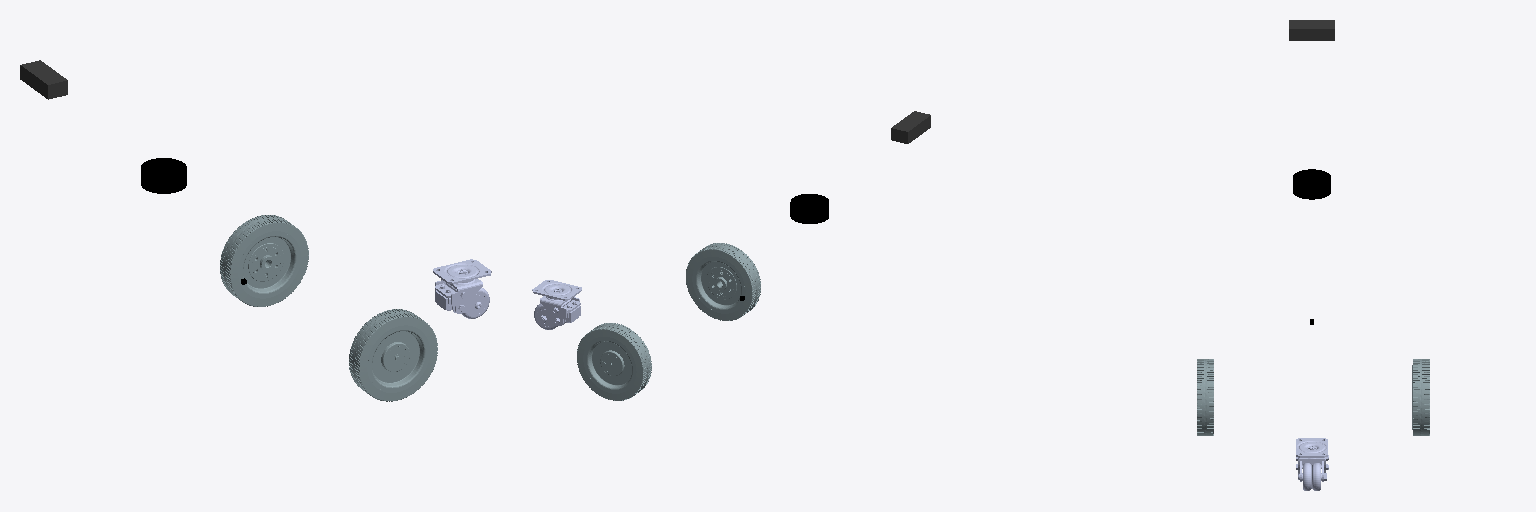
The robot description file, URDF, robot "ros_f":
<?xml version="1.0" encoding="utf-8"?>
<!-- This URDF was automatically created by SolidWorks to URDF Exporter! Originally created by Stephen Brawner (brawner@gmail.com) 
     Commit Version: 1.6.0-4-g7f85cfe  Build Version: 1.6.7995.38578
     For more information, please see http://wiki.ros.org/sw_urdf_exporter -->
<robot
  name="ros_f">
  <link
    name="base_link">
    <inertial>
      <origin
        xyz="0.80547 0.29964 -0.47356"
        rpy="0 0 0" />
      <mass
        value="13.533" />
      <inertia
        ixx="0.22773"
        ixy="-0.0049825"
        ixz="5.9491E-05"
        iyy="0.3509"
        iyz="5.9312E-05"
        izz="0.14899" />
    </inertial>
    <visual>
      <origin
        xyz="0 0 0"
        rpy="0 0 0" />
      <geometry>
        <mesh
          filename="package://robot_fablab/meshes/base_link.STL" />
      </geometry>
      <material
        name="">
        <color
          rgba="0.74902 0.74902 0.74902 1" />
      </material>
    </visual>
    <collision>
      <origin
        xyz="0 0 0"
        rpy="0 0 0" />
      <geometry>
        <mesh
          filename="package://robot_fablab/meshes/base_link.STL" />
      </geometry>
    </collision>
  </link>
  <link
    name="Left_wheel">
    <inertial>
      <origin
        xyz="-0.00025563 0.014871 7.2657E-07"
        rpy="0 0 0" />
      <mass
        value="1.0716" />
      <inertia
        ixx="0.0032564"
        ixy="1.521E-09"
        ixz="-6.2778E-09"
        iyy="0.0062145"
        iyz="4.2157E-08"
        izz="0.0032565" />
    </inertial>
    <visual>
      <origin
        xyz="0 0 0"
        rpy="0 0 0" />
      <geometry>
        <mesh
          filename="package://robot_fablab/meshes/Left_wheel.STL" />
      </geometry>
      <material
        name="">
        <color
          rgba="0.59608 0.66667 0.68627 1" />
      </material>
    </visual>
    <collision>
      <origin
        xyz="0 0 0"
        rpy="0 0 0" />
      <geometry>
        <mesh
          filename="package://robot_fablab/meshes/Left_wheel.STL" />
      </geometry>
    </collision>
  </link>
  <joint
    name="Left_wheel_joint"
    type="continuous">
    <origin
      xyz="0.71544 0.76308 -0.015158"
      rpy="0 0 -3.1416" />
    <parent
      link="base_link" />
    <child
      link="Left_wheel" />
    <axis
      xyz="0 1 0" />
  </joint>
  <link
    name="Right_wheel">
    <inertial>
      <origin
        xyz="-0.00025564 -0.014871 7.261E-07"
        rpy="0 0 0" />
      <mass
        value="1.0716" />
      <inertia
        ixx="0.0032564"
        ixy="-1.5005E-09"
        ixz="-6.3105E-09"
        iyy="0.0062145"
        iyz="-4.2151E-08"
        izz="0.0032565" />
    </inertial>
    <visual>
      <origin
        xyz="0 0 0"
        rpy="0 0 0" />
      <geometry>
        <mesh
          filename="package://robot_fablab/meshes/Right_wheel.STL" />
      </geometry>
      <material
        name="">
        <color
          rgba="0.59608 0.66667 0.68627 1" />
      </material>
    </visual>
    <collision>
      <origin
        xyz="0 0 0"
        rpy="0 0 0" />
      <geometry>
        <mesh
          filename="package://robot_fablab/meshes/Right_wheel.STL" />
      </geometry>
    </collision>
  </link>
  <joint
    name="Right_wheel_joint"
    type="continuous">
    <origin
      xyz="0.71544 0.18036 -0.015158"
      rpy="0 0 3.1416" />
    <parent
      link="base_link" />
    <child
      link="Right_wheel" />
    <axis
      xyz="0 -1 0" />
  </joint>
  <link
    name="Caster">
    <inertial>
      <origin
        xyz="-0.00326890758980913 -0.000105769701198966 -0.0476560909473075"
        rpy="0 0 0" />
      <mass
        value="0.378365009719551" />
      <inertia
        ixx="0.000486902921012301"
        ixy="4.68634433031941E-08"
        ixz="-8.39976891943837E-05"
        iyy="0.000645365810716879"
        iyz="-4.71799768324587E-07"
        izz="0.000450276858110533" />
    </inertial>
    <visual>
      <origin
        xyz="0 0 0"
        rpy="0 0 0" />
      <geometry>
        <mesh
          filename="package://robot_fablab/meshes/Caster.STL" />
      </geometry>
      <material
        name="">
        <color
          rgba="0.792156862745098 0.819607843137255 0.933333333333333 1" />
      </material>
    </visual>
    <collision>
      <origin
        xyz="0 0 0"
        rpy="0 0 0" />
      <geometry>
        <mesh
          filename="package://robot_fablab/meshes/Caster.STL" />
      </geometry>
    </collision>
  </link>
  <joint
    name="Caster_joint"
    type="continuous">
    <origin
      xyz="1.0482 0.47172 -0.0081577"
      rpy="0 0 -3.1416" />
    <parent
      link="base_link" />
    <child
      link="Caster" />
    <axis
      xyz="0 0 0" />
  </joint>

  <link name="base_footprint">
    <visual>
      <geometry>
        <box size="0.001 0.001 0.001"/>
      </geometry>
    </visual>
  </link>

  <joint name="base_footprint_joint" type="fixed">
    <parent link="base_footprint"/>
    <child link="base_link"/>
    <origin xyz="0 0 0" rpy="0 0 0"/>
  </joint>

  <!-- transmission for ros_control -->
  <transmission name="left_wheel_trans">
    <type>transmission_interface/SimpleTransmission</type>
    <actuator name="motor_left_wheel">
      <hardwareInterface>EffortJointInterface</hardwareInterface>
      <mechanicalReduction>1</mechanicalReduction>
    </actuator>
    <joint name="Left_wheel_joint">
      <hardwareInterface>VelocityJointInterface</hardwareInterface>
    </joint>
  </transmission>

  <transmission name="right_wheel_trans">
    <type>transmission_interface/SimpleTransmission</type>
    <actuator name="motor_right_wheel">
      <hardwareInterface>EffortJointInterface</hardwareInterface>
      <mechanicalReduction>1</mechanicalReduction>
    </actuator>
    <joint name="Right_wheel_joint">
      <hardwareInterface>VelocityJointInterface</hardwareInterface>
    </joint>
  </transmission>

  <!-- gazebo ros_control plugin -->
  <gazebo>
    <plugin name="gazebo_ros_control" filename="libgazebo_ros_control.so">
    </plugin>
  </gazebo>

  <!-- ===== LiDAR ===== -->
  <link name="link_lidar">
    <inertial>
      <origin xyz="0 0 0" rpy="0 0 0"/>
      <mass value="0.035"/>
      <inertia ixx="1.9e-5" ixy="0" ixz="0" iyy="1.9e-5" iyz="0" izz="3.7e-5"/>
    </inertial>
    <visual>
      <origin xyz="0 0 0" rpy="0 0 0"/>
      <geometry>
        <cylinder radius="0.05" length="0.04"/>
      </geometry>
      <material name="">
        <color rgba="0 0 0 1"/>
      </material>
    </visual>
    <collision>
      <origin xyz="0 0 0" rpy="0 0 0"/>
      <geometry>
        <cylinder radius="0.05" length="0.04"/>
      </geometry>
    </collision>
  </link>

  <joint name="joint_lidar" type="fixed">
    <origin xyz="0.3 0.47172 0.4" rpy="0 0 0"/>
    <parent link="base_link"/>
    <child link="link_lidar"/>
    <axis xyz="0 0 0"/>
  </joint>

  <!-- ===== Camera ===== -->
  <link name="link_camera">
    <inertial>
      <origin xyz="0 0 0" rpy="0 0 0"/>
      <mass value="0.15"/>
      <inertia ixx="3.0e-4" ixy="0" ixz="0" iyy="2.3e-5" iyz="0" izz="3.1e-4"/>
    </inertial>
    <visual>
      <origin xyz="0 0 0" rpy="0 0 0"/>
      <geometry>
        <box size="0.05 0.12 0.035"/>
      </geometry>
      <material name="">
        <color rgba="0.27059 0.27059 0.27059 1"/>
      </material>
    </visual>
    <collision>
      <origin xyz="0 0 0" rpy="0 0 0"/>
      <geometry>
        <box size="0.05 0.12 0.035"/>
      </geometry>
    </collision>
  </link>

  <joint name="joint_camera" type="fixed">
    <origin xyz="0.0 0.47172 0.7" rpy="0 0 0"/>
    <parent link="base_link"/>
    <child link="link_camera"/>
    <axis xyz="0 0 0"/>
  </joint>

  <!-- ===== IMU ===== -->
  <link name="imu_link">
    <inertial>
      <origin xyz="0 0 0" rpy="0 0 0"/>
      <mass value="0.01"/>
      <inertia ixx="1e-6" ixy="0" ixz="0" iyy="1e-6" iyz="0" izz="1e-6"/>
    </inertial>
    <visual>
      <origin xyz="0 0 0" rpy="0 0 0"/>
      <geometry>
        <box size="0.01 0.01 0.01"/>
      </geometry>
      <material name="">
        <color rgba="0 0 0 1"/>
      </material>
    </visual>
    <collision>
      <origin xyz="0 0 0" rpy="0 0 0"/>
      <geometry>
        <box size="0.01 0.01 0.01"/>
      </geometry>
    </collision>
  </link>

  <joint name="imu_joint" type="fixed">
    <origin xyz="0.5 0.47172 0.1" rpy="0 0 0"/>
    <parent link="base_link"/>
    <child link="imu_link"/>
  </joint>

  <!-- ===== Gazebo: LiDAR plugin ===== -->
  <gazebo reference="link_lidar">
    <sensor type="ray" name="head_hokuyo_sensor">
      <pose>0 0 0 0 0 0</pose>
      <visualize>false</visualize>
      <update_rate>10</update_rate>
      <ray>
        <scan>
          <horizontal>
            <samples>512</samples>
            <resolution>1</resolution>
            <min_angle>-3.14</min_angle>
            <max_angle>3.14</max_angle>
          </horizontal>
        </scan>
        <range>
          <min>0.10</min>
          <max>10.0</max>
          <resolution>0.03</resolution>
        </range>
        <noise>
          <type>gaussian</type>
          <mean>0.0</mean>
          <stddev>0.01</stddev>
        </noise>
      </ray>
      <plugin name="gazebo_ros_head_hokuyo_controller" filename="libgazebo_ros_laser.so">
        <topicName>/laser/scan</topicName>
        <frameName>link_lidar</frameName>
      </plugin>
    </sensor>
    <material>Gazebo/Black</material>
  </gazebo>

  <!-- ===== Gazebo: Camera plugin ===== -->
  <gazebo reference="link_camera">
    <sensor type="camera" name="camera">
      <update_rate>30.0</update_rate>
      <visualize>true</visualize>
      <camera name="head">
        <horizontal_fov>1.3962634</horizontal_fov>
        <image>
          <width>800</width>
          <height>800</height>
          <format>R8G8B8</format>
        </image>
        <clip>
          <near>0.02</near>
          <far>300</far>
        </clip>
      </camera>
      <plugin name="camera_controller" filename="libgazebo_ros_camera.so">
        <alwaysOn>true</alwaysOn>
        <updateRate>0.0</updateRate>
        <cameraName>/camera</cameraName>
        <imageTopicName>image_raw</imageTopicName>
        <cameraInfoTopicName>camera_info</cameraInfoTopicName>
        <frameName>link_camera</frameName>
        <hackBaseline>0.07</hackBaseline>
        <distortionK1>0.0</distortionK1>
        <distortionK2>0.0</distortionK2>
        <distortionK3>0.0</distortionK3>
        <distortionT1>0.0</distortionT1>
        <distortionT2>0.0</distortionT2>
      </plugin>
    </sensor>
    <material>Gazebo/Black</material>
  </gazebo>

  <!-- ===== Gazebo: IMU plugin ===== -->
  <gazebo reference="imu_link">
    <sensor name="imu_sensor" type="imu">
      <always_on>true</always_on>
      <update_rate>100</update_rate>
      <visualize>true</visualize>
      <plugin filename="libgazebo_ros_imu.so" name="imu_plugin">
        <topicName>/imu/data</topicName>
        <serviceName>/imu/service</serviceName>
        <bodyName>imu_link</bodyName>
        <updateRateHZ>100.0</updateRateHZ>
        <gaussianNoise>0.0</gaussianNoise>
        <xyzOffset>0 0 0</xyzOffset>
        <rpyOffset>0 0 0</rpyOffset>
        <frameName>imu_link</frameName>
      </plugin>
    </sensor>
  </gazebo>

  <!-- ===== Gazebo: link materials ===== -->
  <gazebo reference="base_link">
    <material>Gazebo/Blue</material>
  </gazebo>
  <gazebo reference="Left_wheel">
    <material>Gazebo/Black</material>
  </gazebo>
  <gazebo reference="Right_wheel">
    <material>Gazebo/Black</material>
  </gazebo>
  <gazebo reference="Caster">
    <material>Gazebo/Black</material>
  </gazebo>

</robot>

--- Facts derived from the render (not from the file) ---
Views: 3 orthographic renders of the robot side by side, from view 1: azimuth 30°, elevation 25°; view 2: azimuth 150°, elevation 25°; view 3: azimuth 270°, elevation 25°.
Robot: ros_f — 8 links, 7 joints (3 continuous, 4 fixed); root link base_footprint; default pose: all joints at 0.
Links seen in each view (by area): view 1: Right_wheel, Left_wheel, Caster, link_lidar, link_camera; view 2: Left_wheel, Right_wheel, Caster, link_lidar, link_camera; view 3: Caster, Left_wheel, Right_wheel, link_lidar, link_camera.
Link boxes in pixels (box(x1,y1,x2,y2)): Right_wheel: box(349, 309, 437, 401); Left_wheel: box(220, 215, 308, 306); Caster: box(433, 259, 491, 318); link_lidar: box(141, 158, 186, 193); link_camera: box(20, 60, 67, 99); Left_wheel: box(577, 323, 651, 400); Right_wheel: box(686, 243, 760, 320); Caster: box(532, 280, 581, 329); link_lidar: box(790, 194, 828, 223); link_camera: box(891, 111, 930, 143); Caster: box(1296, 438, 1328, 490); Left_wheel: box(1412, 359, 1429, 435); Right_wheel: box(1197, 359, 1213, 435); link_lidar: box(1293, 169, 1330, 199); link_camera: box(1289, 20, 1334, 40).
Size in the robot's own frame: 1.13 by 0.7786 by 0.8327 metres.
3 mesh visuals loaded from 4 distinct referenced files (3 binary STL); not drawn: 1 (reference not matched to a file when rendering).
